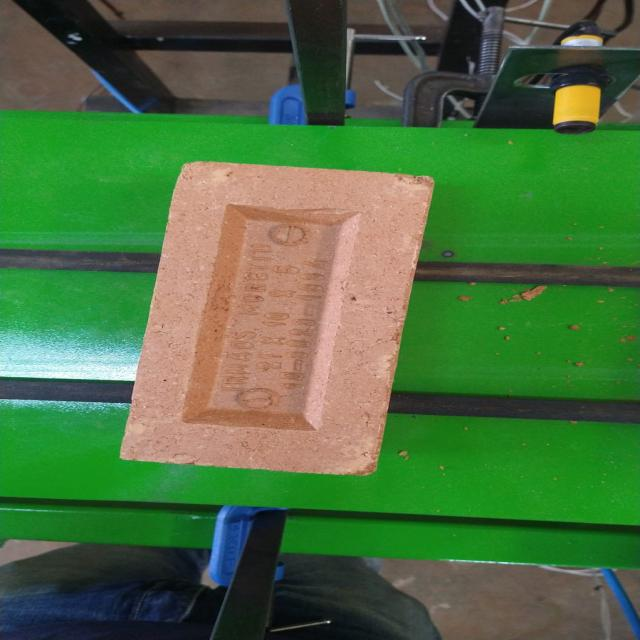bricks: (118, 162, 433, 479)
